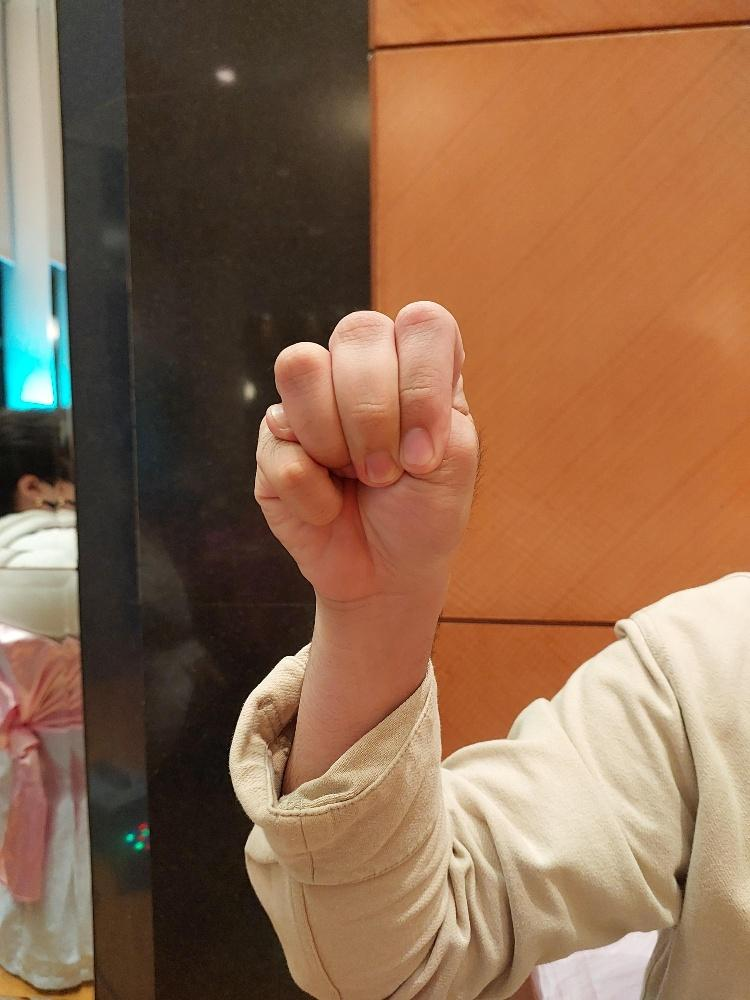m: (252, 296, 481, 601)
